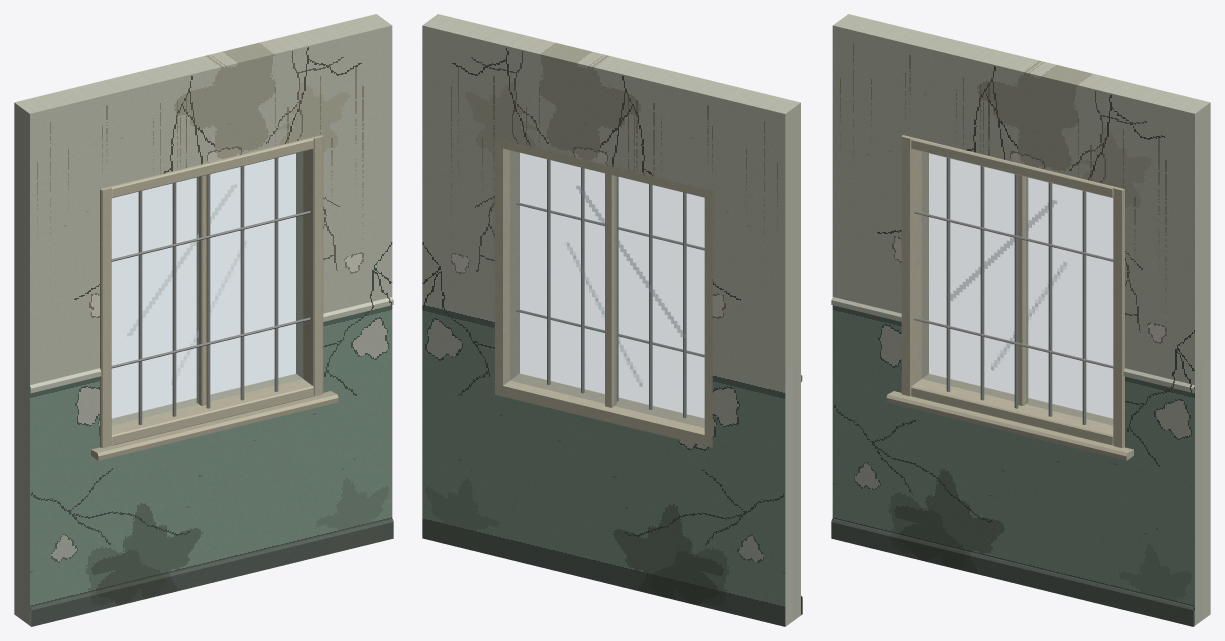
File: wall_window_4a.glb
3 views of the same model, side by side, from view 1: azimuth 30°, elevation 25°; view 2: azimuth 150°, elevation 25°; view 3: azimuth 330°, elevation 25° (orthographic).
Visible parts, largest first — view 1: wall_body, window_glass, frame_right, frame_bottom, frame_left, sill, frame_top, mullion, bar_v3, bar_v2, bar_v0, bar_v1 (+3 smaller); view 2: wall_body, window_glass, frame_right, frame_bottom, mullion, frame_left, frame_top, bar_v0, bar_v1, bar_v3, bar_v4, bar_v2 (+2 smaller); view 3: wall_body, window_glass, frame_left, frame_bottom, frame_right, sill, frame_top, mullion, bar_v1, bar_v2, bar_v4, bar_v0 (+3 smaller).
Part boxes in pixels (x1,y1,x2,y2): wall_body: (14, 14, 393, 626); window_glass: (112, 152, 302, 424); frame_right: (296, 135, 323, 396); frame_bottom: (111, 374, 313, 445); frame_left: (100, 187, 111, 447); sill: (91, 391, 338, 460); frame_top: (110, 137, 313, 197); mullion: (196, 175, 206, 405); bar_v3: (240, 166, 244, 400); bar_v2: (206, 174, 210, 408); bar_v0: (138, 191, 142, 424); bar_v1: (172, 182, 176, 416); wall_body: (422, 14, 802, 626); window_glass: (510, 150, 704, 427); frame_right: (492, 136, 519, 396); frame_bottom: (503, 373, 704, 445); mullion: (605, 173, 616, 407); frame_left: (704, 188, 714, 447); frame_top: (503, 139, 704, 197); bar_v0: (683, 192, 686, 418); bar_v1: (649, 184, 652, 409); bar_v3: (581, 167, 584, 393); bar_v4: (547, 159, 550, 384); bar_v2: (616, 176, 618, 401); wall_body: (831, 14, 1210, 626); window_glass: (922, 152, 1112, 424); frame_left: (901, 135, 928, 396); frame_bottom: (911, 374, 1113, 445); frame_right: (1113, 187, 1124, 447); sill: (886, 391, 1133, 460); frame_top: (911, 137, 1114, 197); mullion: (1018, 175, 1028, 405); bar_v1: (980, 166, 984, 400); bar_v2: (1014, 174, 1018, 408); bar_v4: (1082, 191, 1086, 424); bar_v0: (946, 158, 950, 391).
Bounding box in the file's own units: 2 × 2.7 × 0.2219.
Materials: 2 (2 with a texture image).
